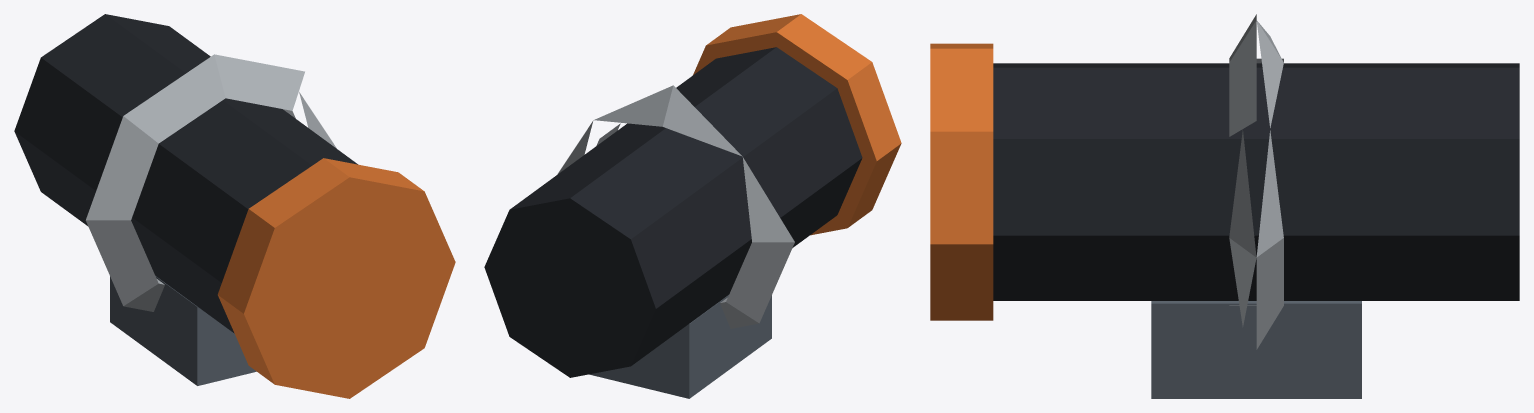
Rendered from collimator-flux.lod.glb.
3 renders of one model, left to right at view 1: azimuth 30°, elevation 25°; view 2: azimuth 150°, elevation 25°; view 3: azimuth 270°, elevation 25°, orthographic. The views are drawn at different scales.
Visible parts, largest first — view 1: m; view 2: m; view 3: m.
Boxes of the visible parts, left/top/right/bottom form: m: left=14, top=14, right=455, bottom=398; m: left=484, top=14, right=901, bottom=398; m: left=930, top=14, right=1519, bottom=398.
Bounding box in the file's own units: 0.0364 × 0.0386 × 0.06.
